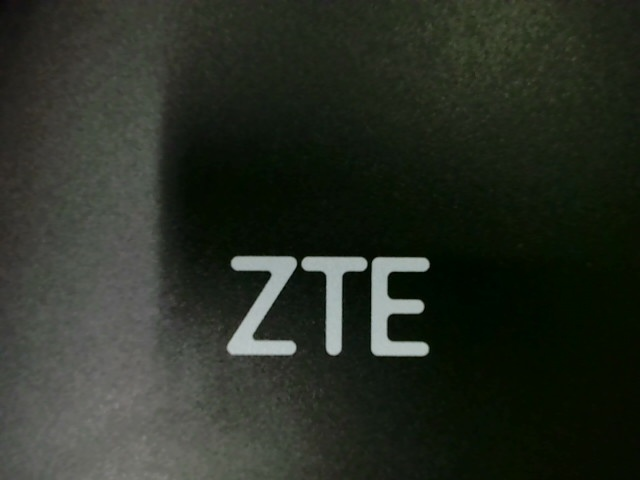AN_ZTE: (212, 246, 434, 360)
